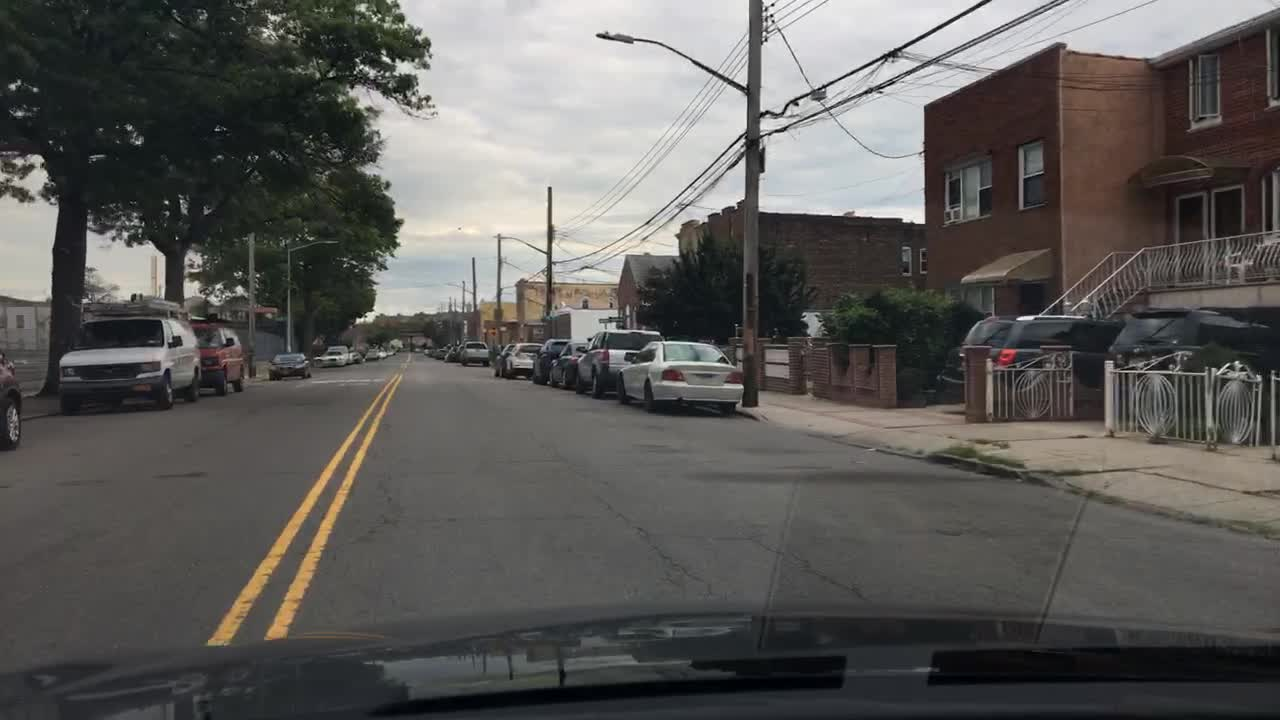car: (1102, 302, 1279, 421), (56, 290, 204, 413), (934, 313, 1121, 407), (615, 337, 744, 412), (572, 327, 661, 398), (544, 339, 592, 388), (0, 349, 23, 449), (530, 337, 577, 385), (502, 340, 544, 377), (266, 352, 313, 381), (491, 341, 515, 377), (458, 340, 491, 365), (317, 344, 349, 367), (443, 342, 465, 362), (431, 342, 453, 360), (362, 346, 381, 361), (422, 344, 432, 356)
